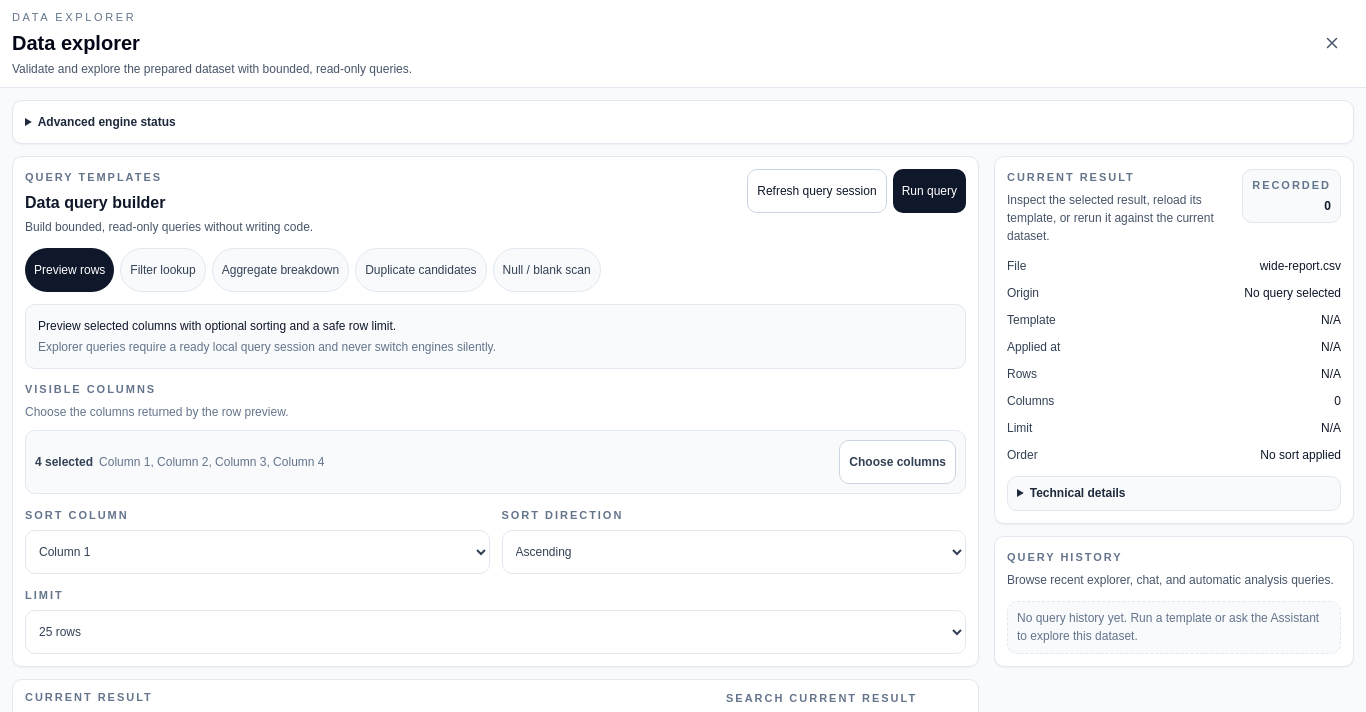
Test case: DatabaseModal › collapses a long column picker until the user chooses to edit it
Check: the text "4 selected" is shown, box [35, 454, 93, 468]
Check: the button "Column 16" is not shown
Click the button "Choose columns". click: (898, 462)
box: [839, 440, 956, 484]
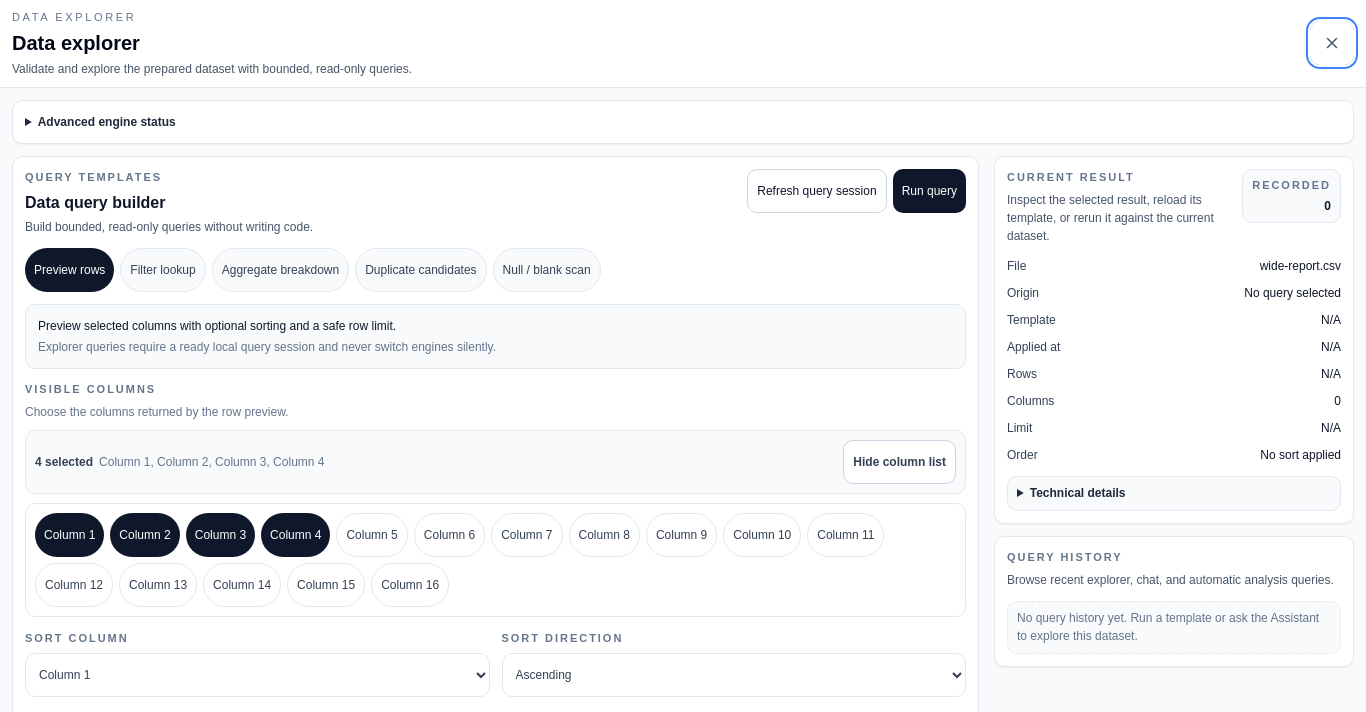
Check: the button "Column 16" is shown, box [371, 562, 449, 606]
Check: the button "Hide column list" is expanded, box [843, 440, 956, 484]
